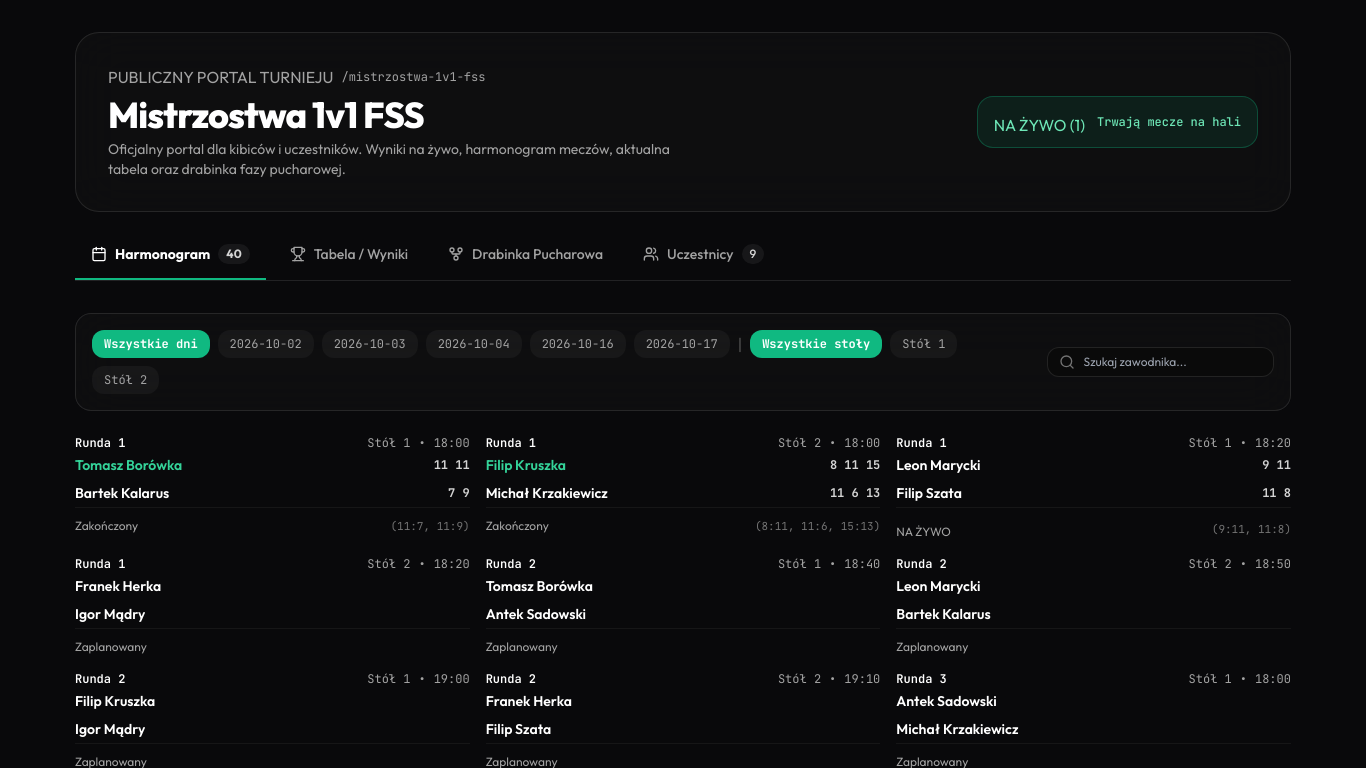
Test: Milestone 4: Public Spectator Portal Suite › 6. Drabinka tab renders Semifinals, Final, and 3rd Place match tree
Click the button "Drabinka Pucharowa". click: coordinates (526, 262)
box: top-left (432, 244), bottom-right (619, 280)
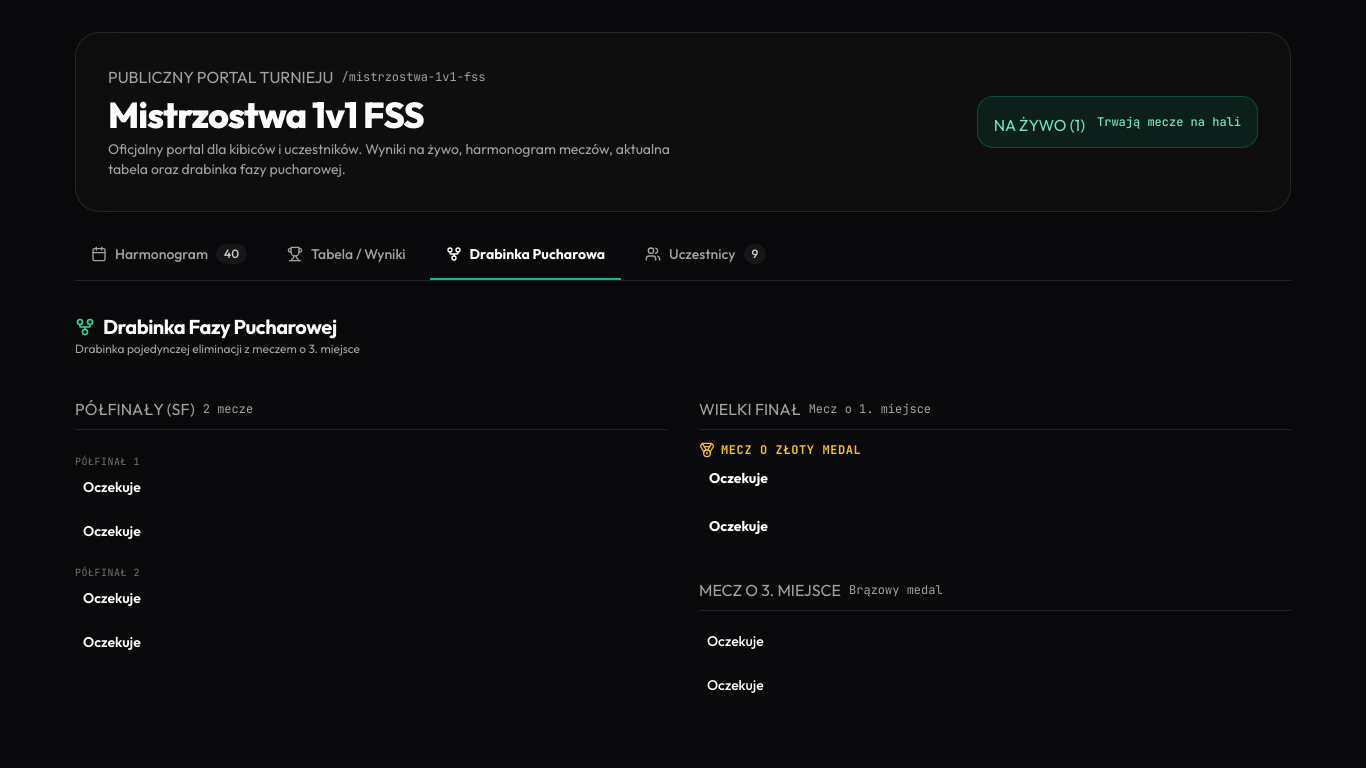
Check: the heading "Drabinka Fazy Pucharowej" is shown, box top-left (75, 314), bottom-right (337, 339)
Check: the text "PÓŁFINAŁY (SF)" is shown, box top-left (75, 397), bottom-right (195, 421)
Check: the text "WIELKI FINAŁ" is shown, box top-left (699, 397), bottom-right (801, 421)
